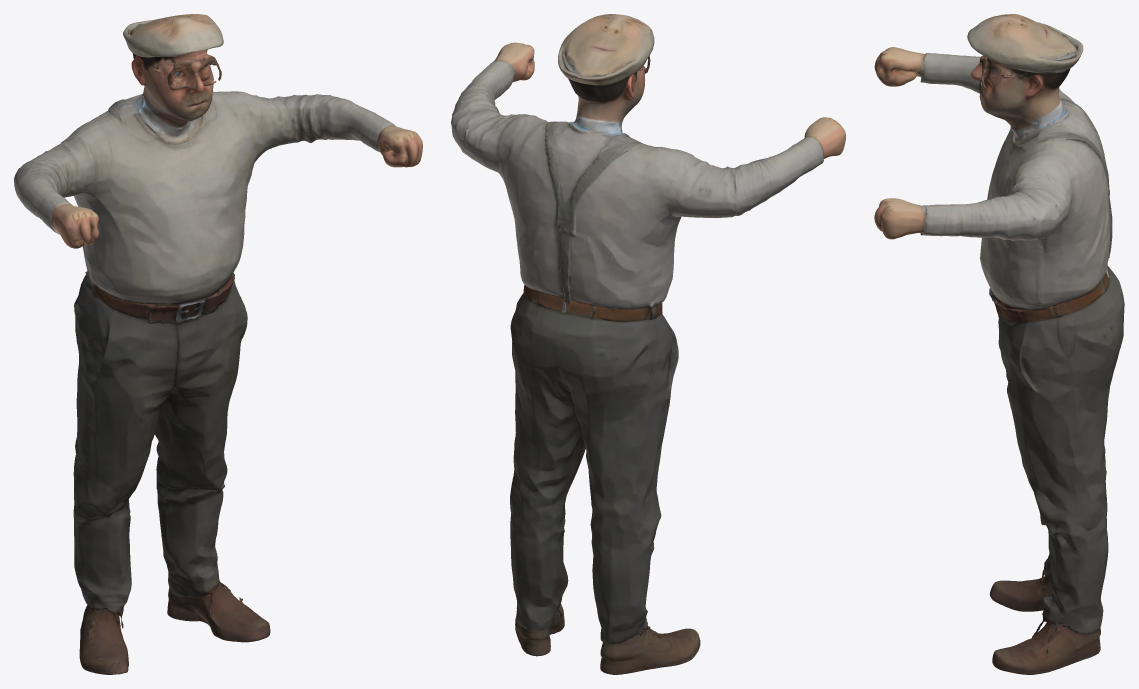
Rendered from Ancleto1.glb.
The picture shows the model from 3 angles, left to right: view 1: azimuth 30°, elevation 25°; view 2: azimuth 150°, elevation 25°; view 3: azimuth 270°, elevation 25°; orthographic projection. The views are drawn at different scales.
Bounding box in the file's own units: 1.17 × 2 × 0.7355.
1 material, 1 textured.
